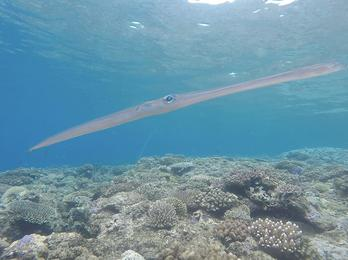Fistularia commersonii: (25, 58, 347, 153)
